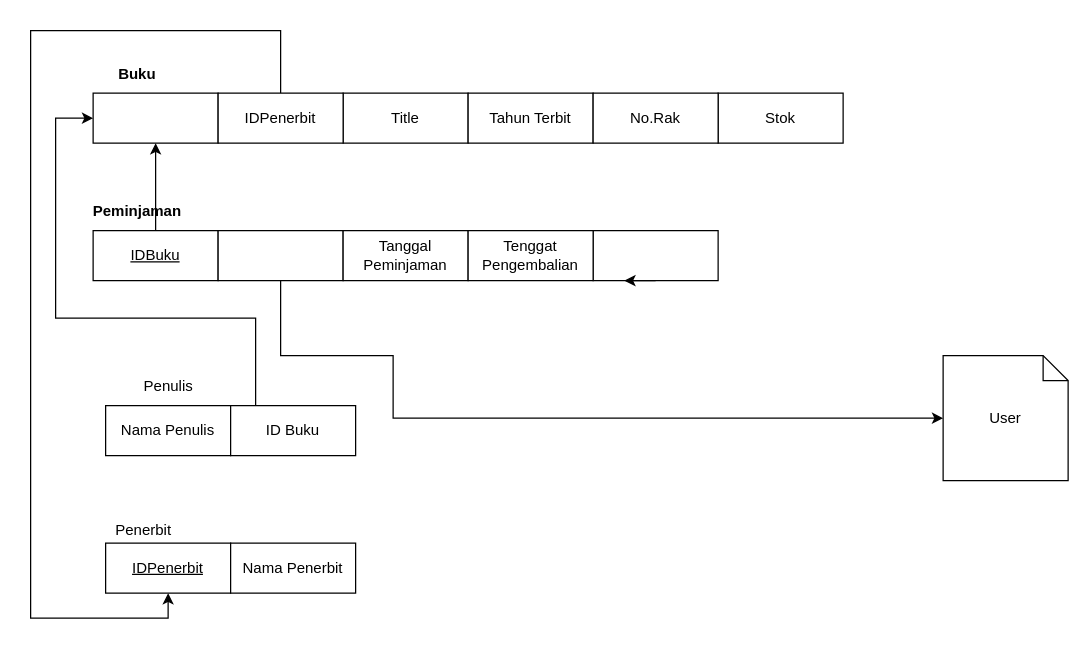
Image size: 1090x650. Some labels were removed from this diagram. Here are the shapes that lost their labels. From the top down, the centre of each, then its label:
the point at 155,117: ID
the point at 280,255: IDUser
the point at 655,255: Tanggal Pengembalian
